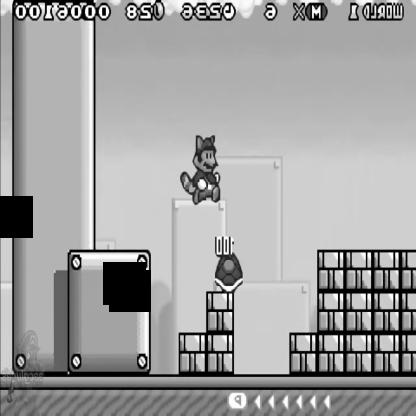Mario: (177, 131, 225, 209)
caparazon: (213, 252, 246, 295)
moneda: (152, 0, 166, 22)
